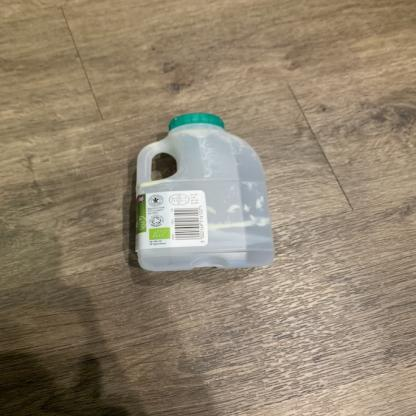trash: (124, 110, 281, 277)
